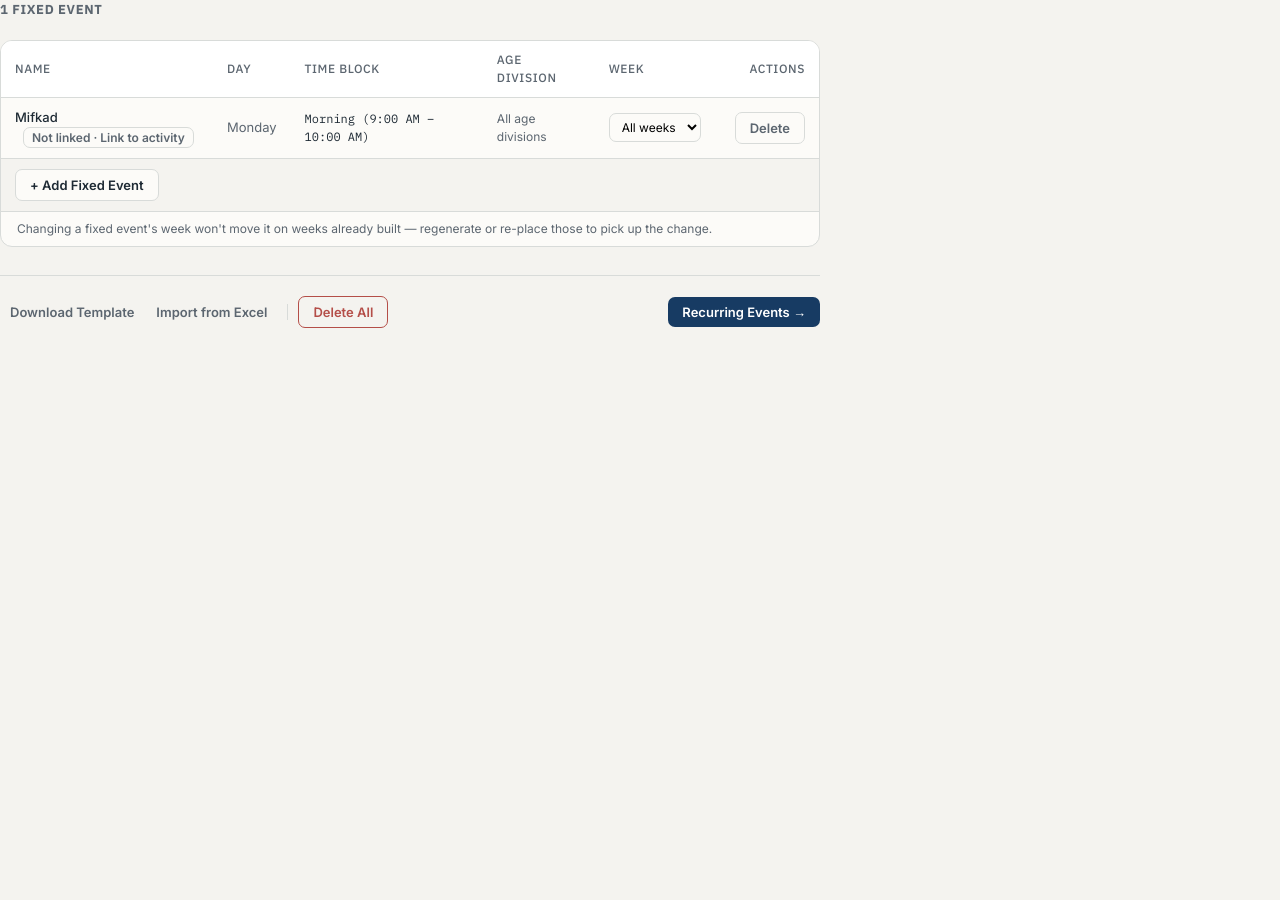
Test: FixedEventsScreen — which weeks control (schedule_week_id) › clicking Delete does not open the edit modal
Expected: the button "Mifkad" is shown, x1=15 y1=108 x2=58 y2=124
What coordinates should you click on to do the following:
click the button "Delete"
I would click on:
 (770, 128)
Its box is x1=735 y1=112 x2=805 y2=144.
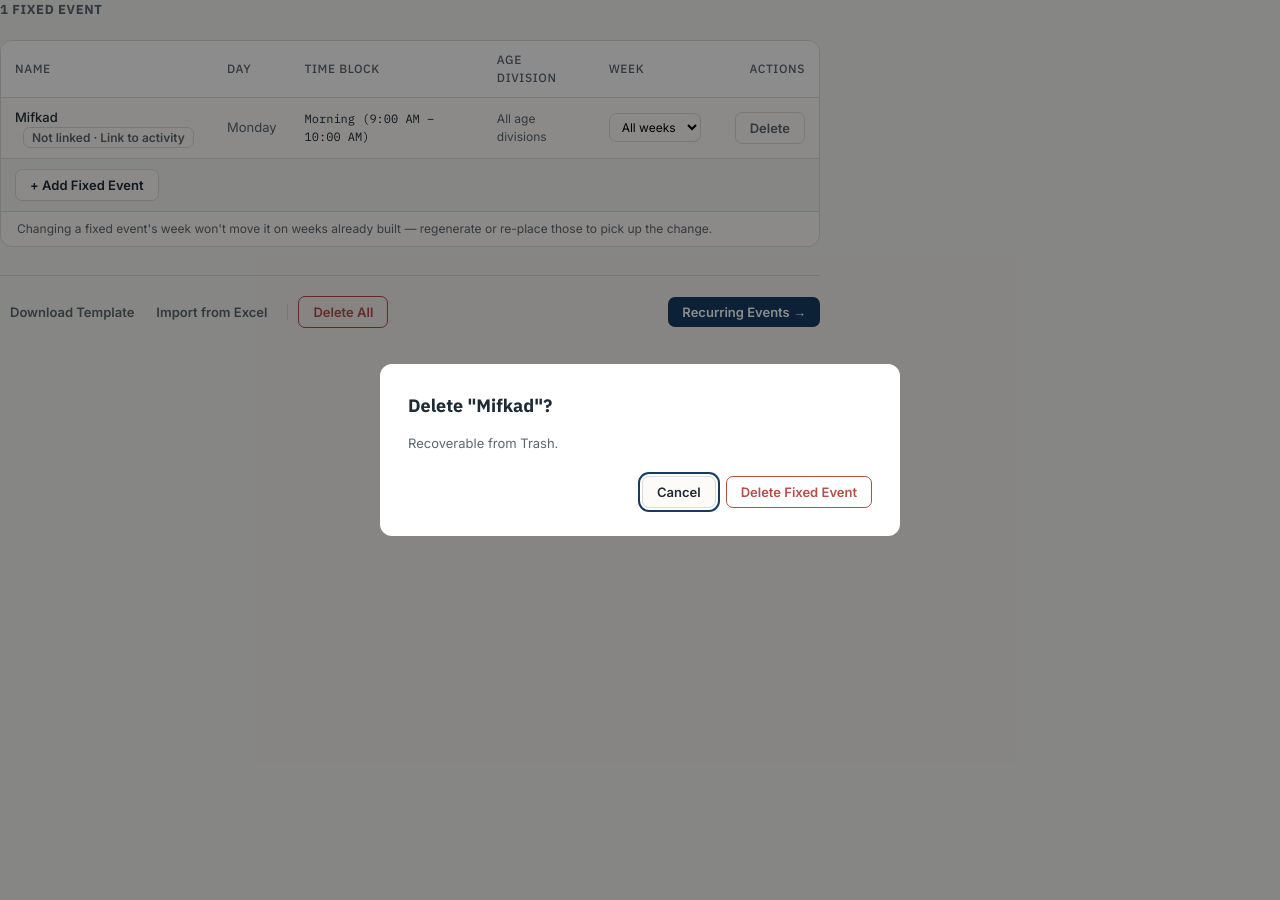
Now the text "Delete \"Mifkad\"?" is shown, box x1=408 y1=394 x2=552 y2=417
